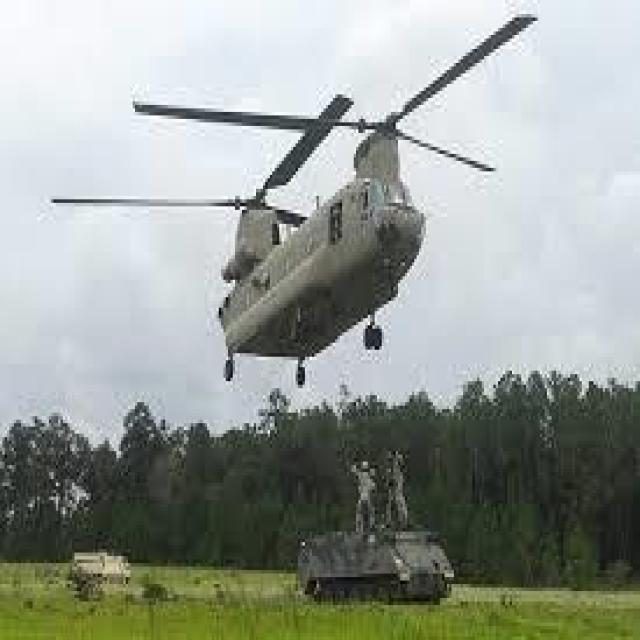MIL_MBT: (293, 512, 454, 607)
